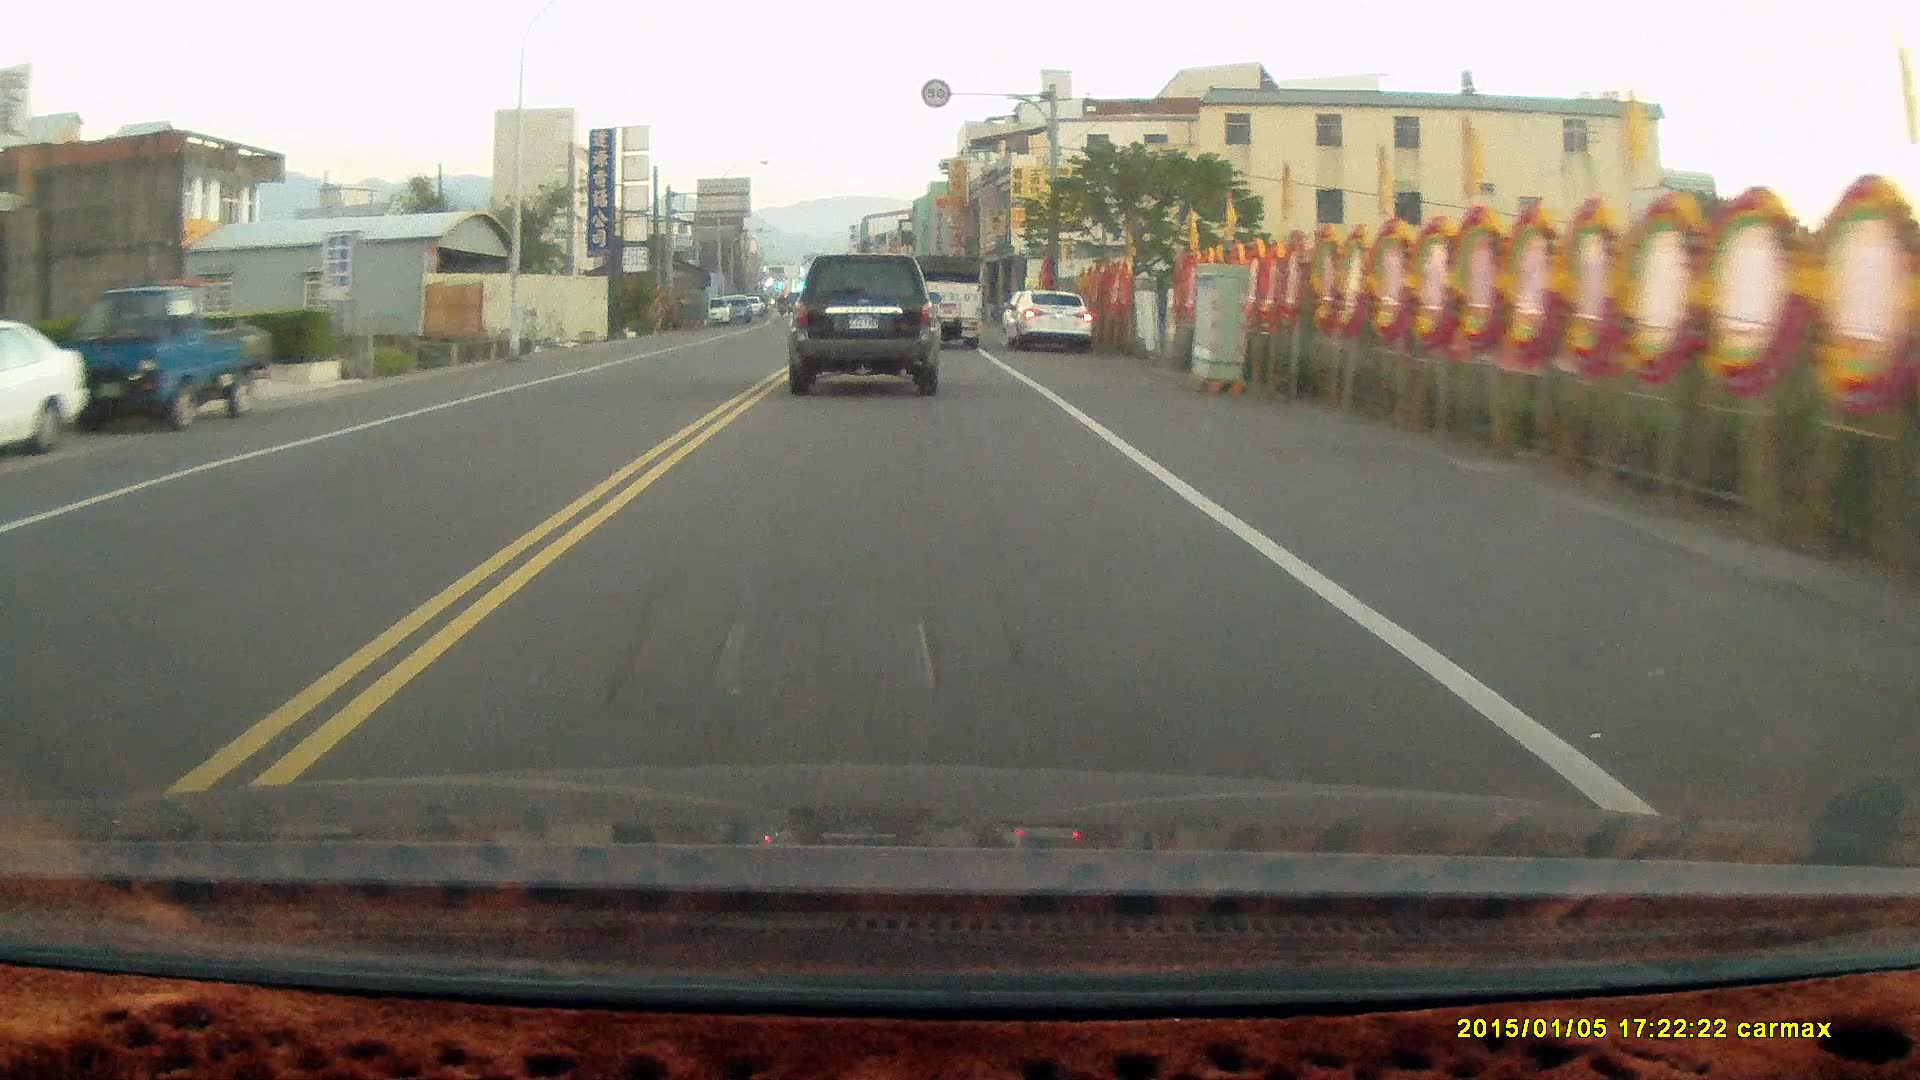vehicle: (63, 285, 268, 435), (790, 258, 942, 404), (1, 315, 90, 455), (911, 255, 988, 352), (1007, 287, 1097, 352)
